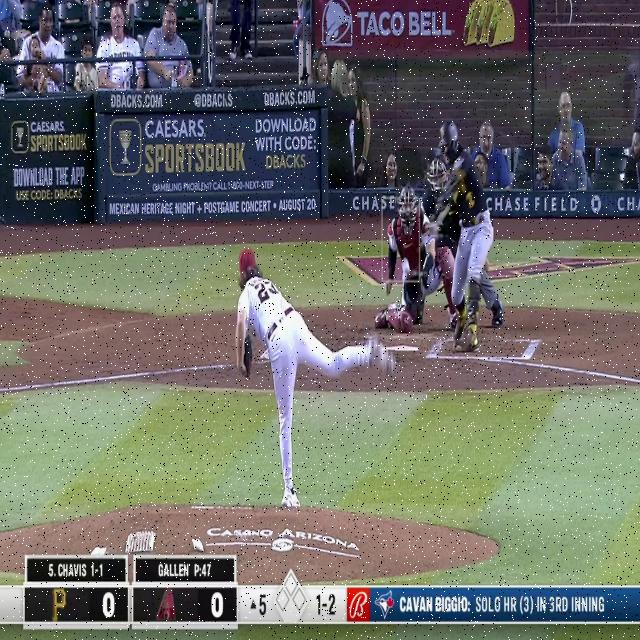baseball: (402, 257, 411, 274)
